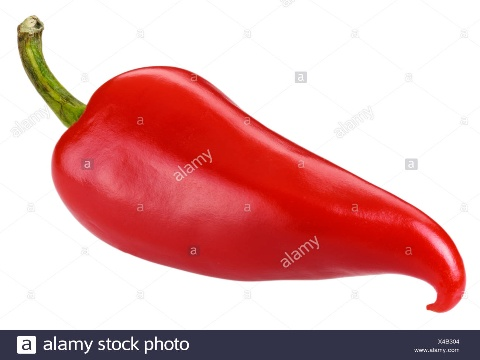Chilli: (11, 8, 470, 324)
